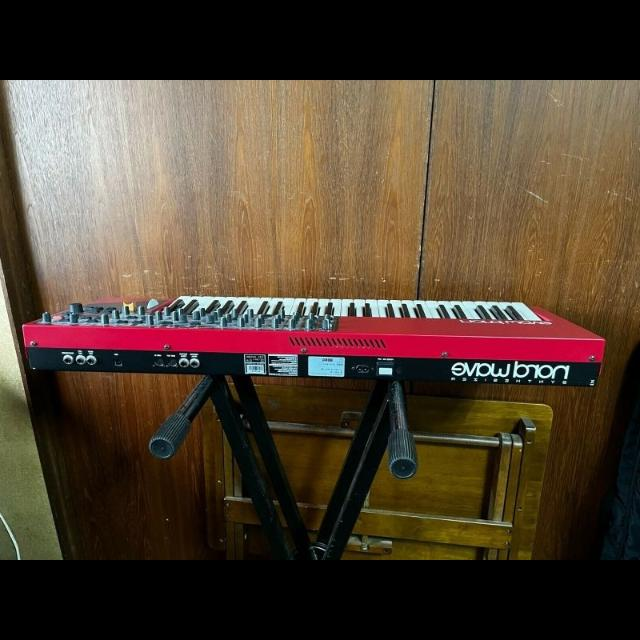Electronic-Keyboard: (11, 282, 624, 402)
